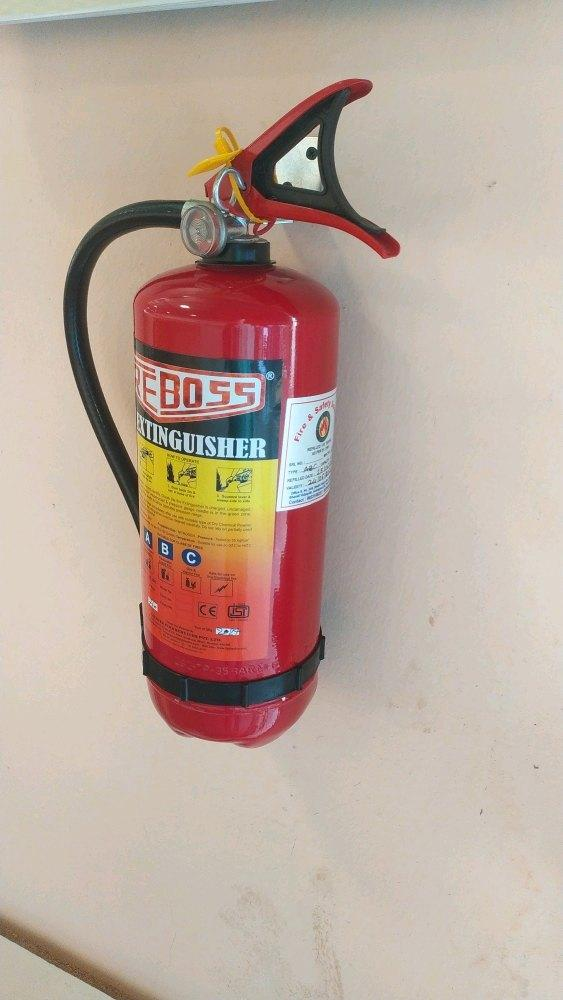wall-mounted: (54, 41, 434, 767)
